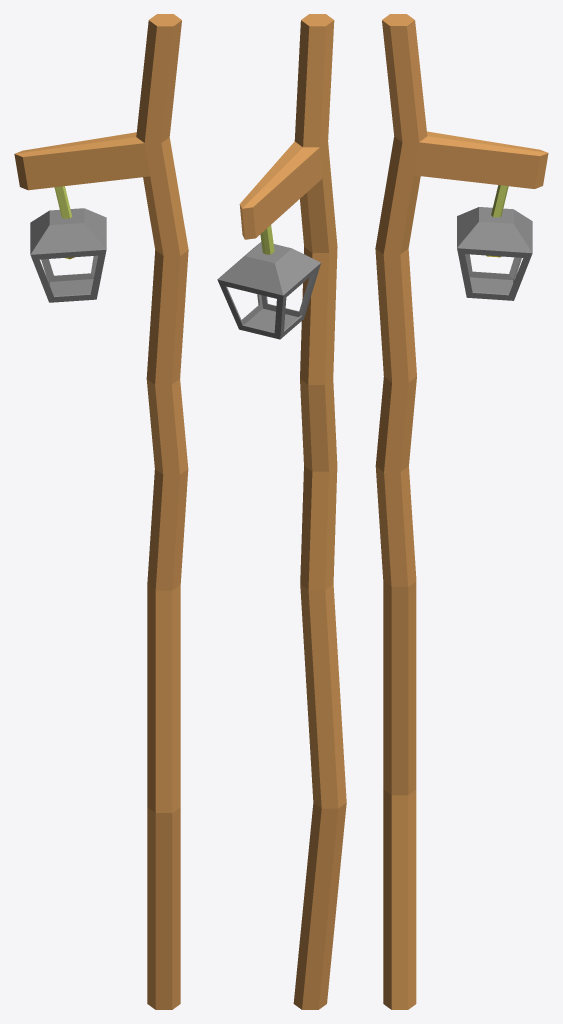
The model's file is streetlamp02.fbx.
The picture shows the model from 3 angles, left to right: view 1: azimuth 90°, elevation 25°; view 2: azimuth 150°, elevation 25°; view 3: azimuth 270°, elevation 25°; orthographic projection.
Visible parts, largest first — view 1: streetlamp02; view 2: streetlamp02; view 3: streetlamp02.
Boxes of the visible parts, x1,y1,x2,y2 form: streetlamp02: (14, 14, 188, 1009); streetlamp02: (217, 14, 346, 1009); streetlamp02: (375, 14, 548, 1009).
Size of the model in its own units: 4.54 by 64.8 by 10.37.
